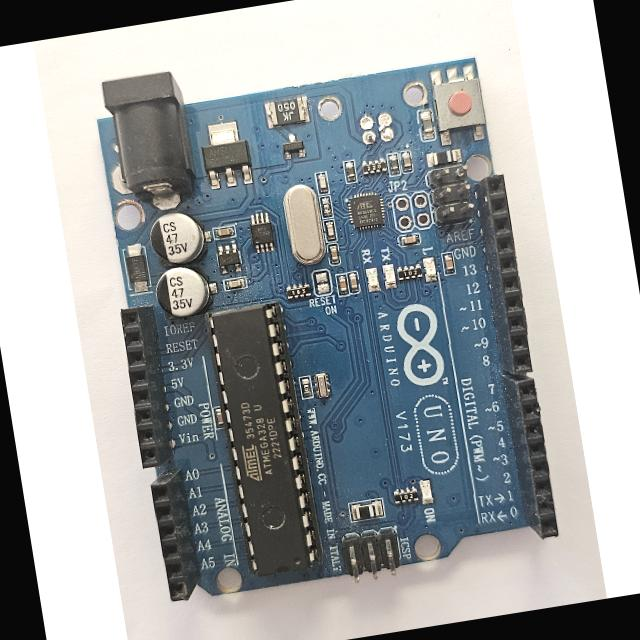missing_usb: (313, 68, 426, 164)
